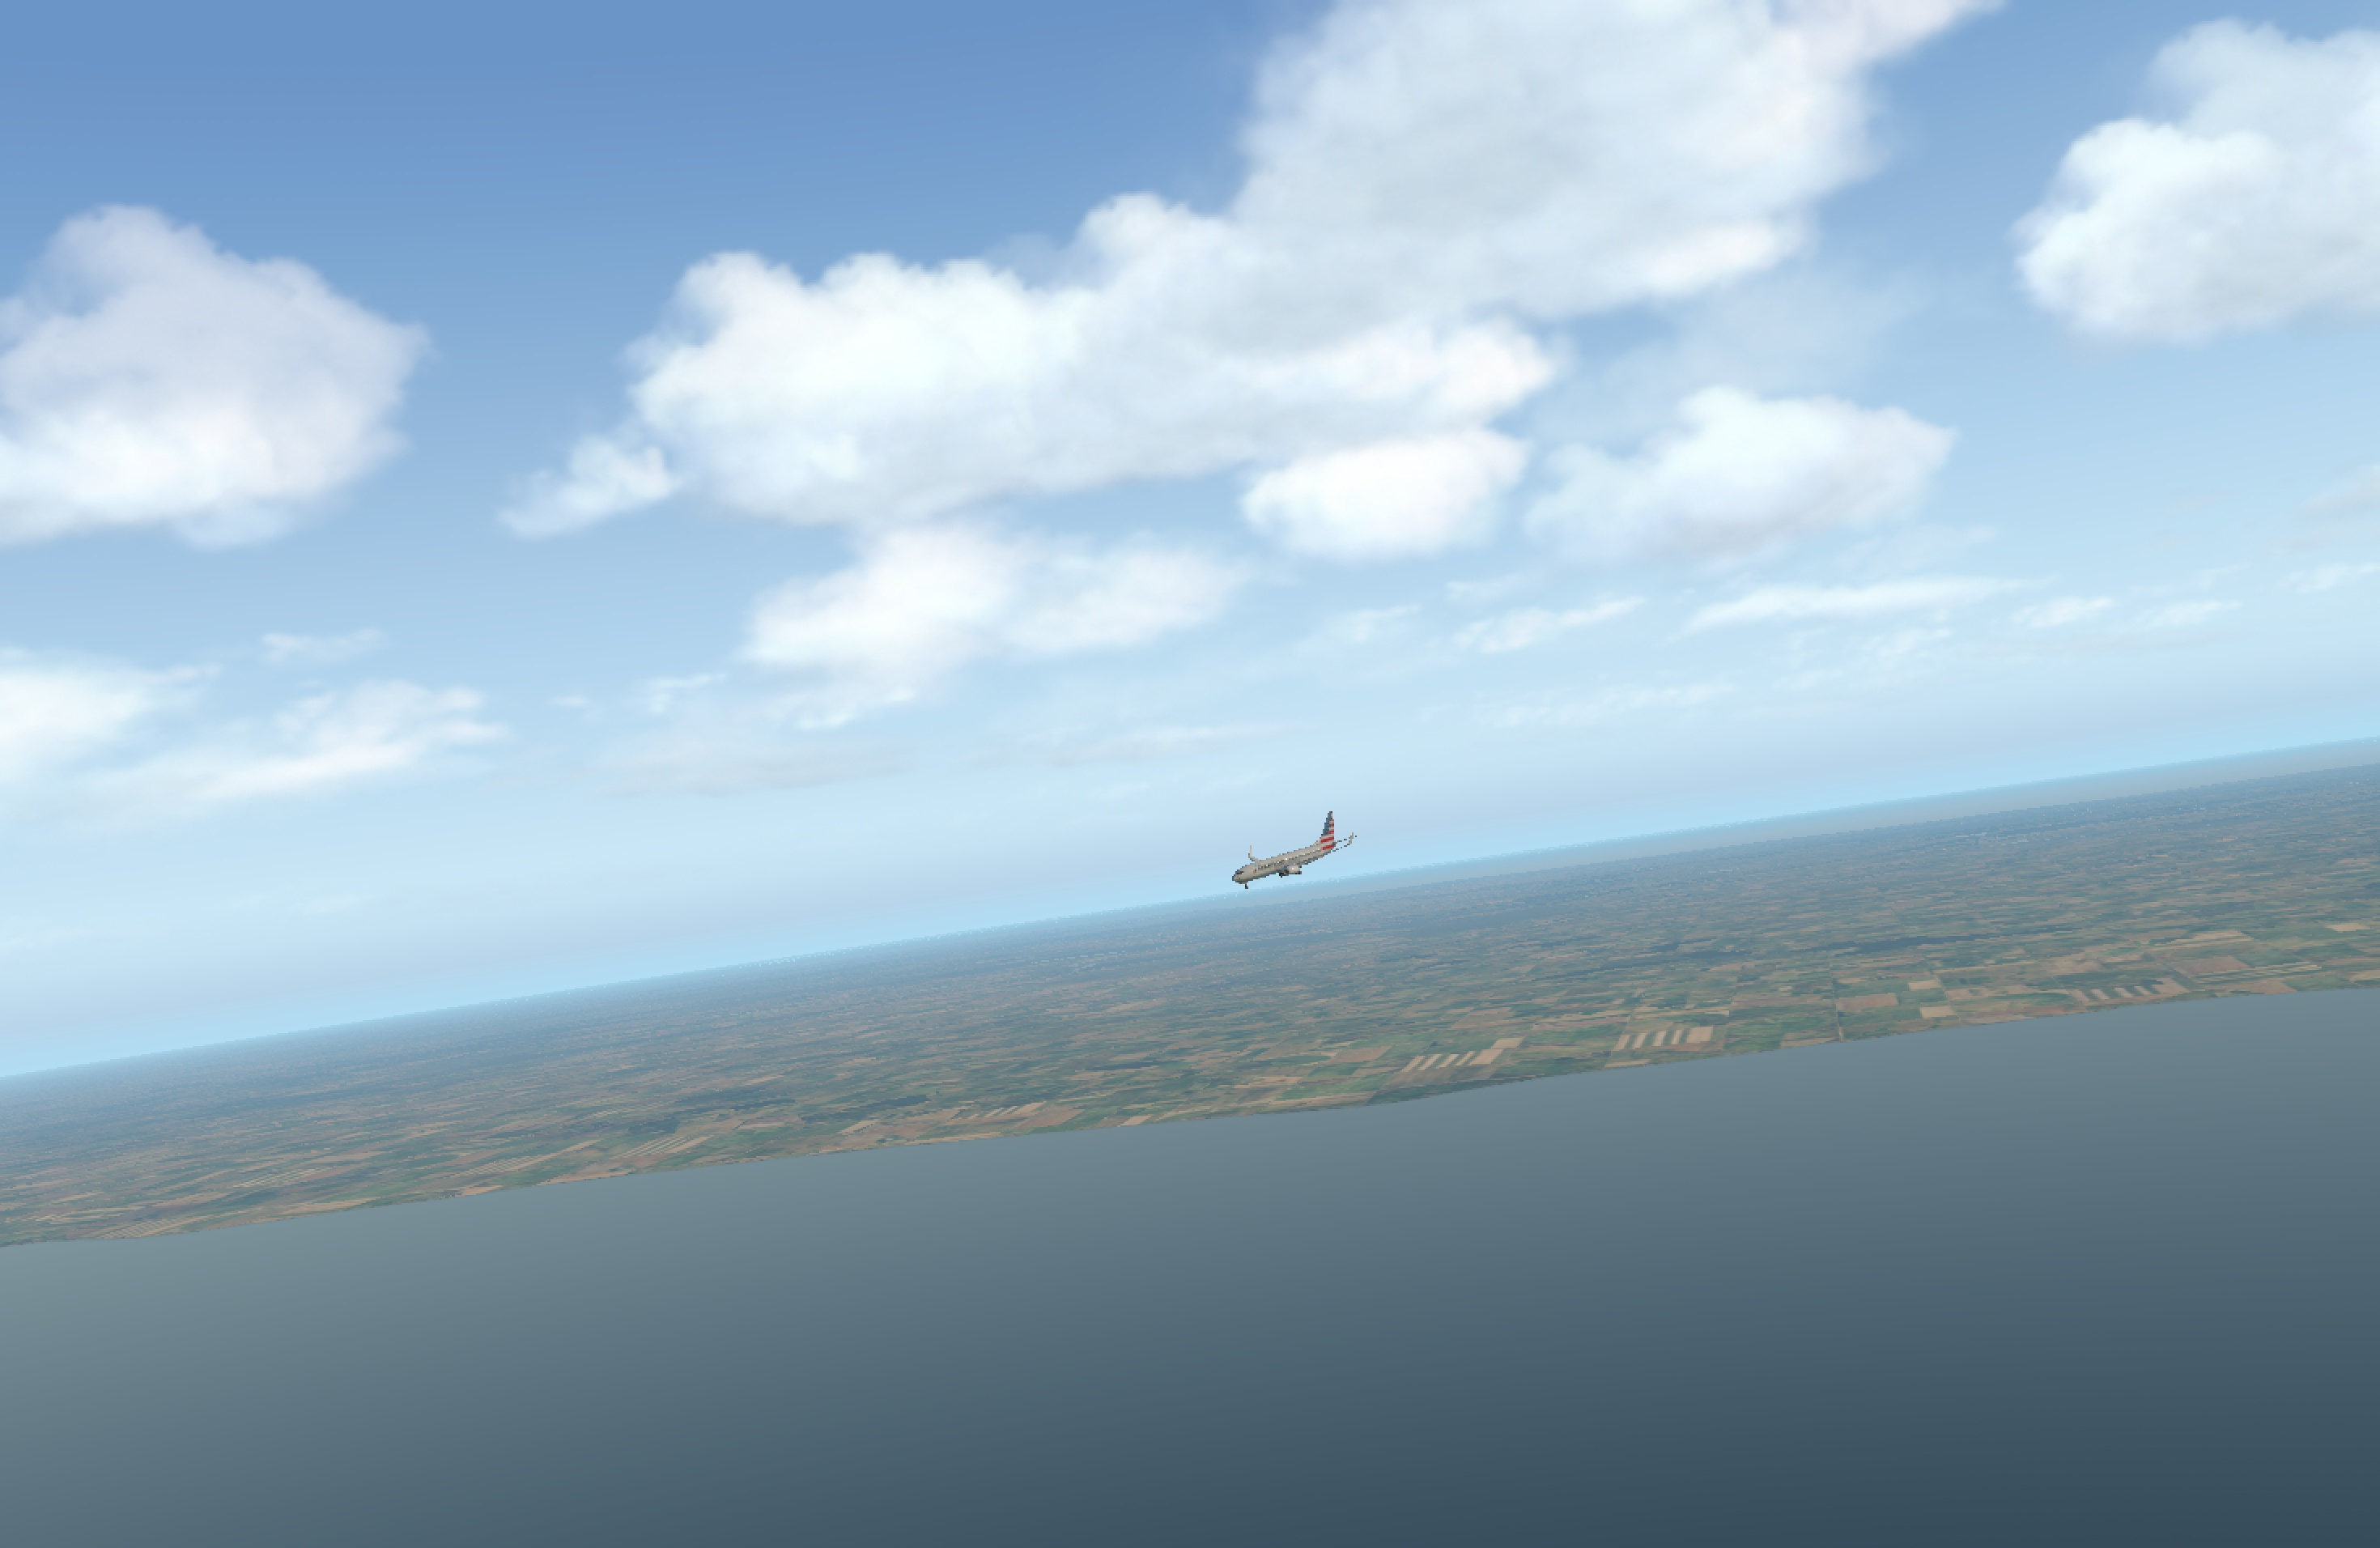aircraft: (1204, 835, 1365, 895)
